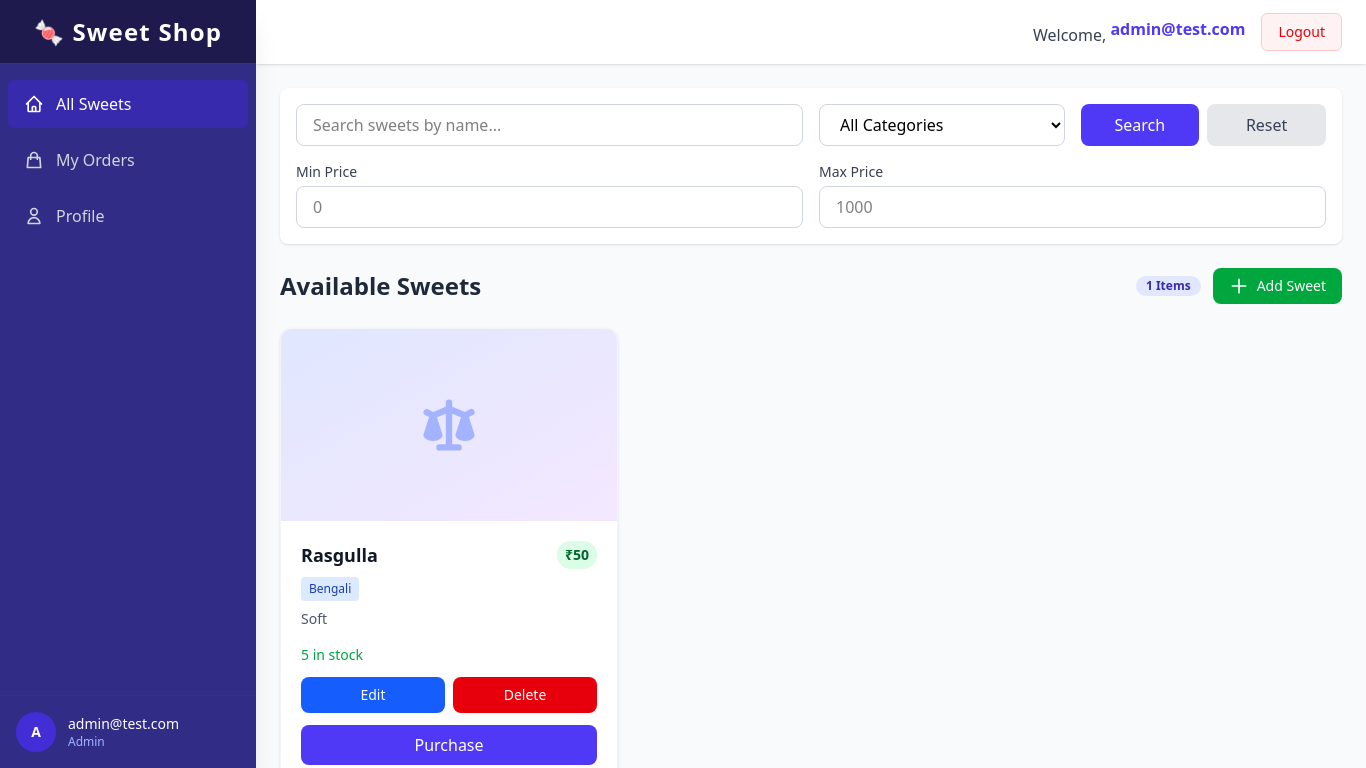
Scenario: Admin CRUD Operations › Edit Sweet Functionality › should open edit form with pre-filled data when edit button is clicked
This screenshot has width=1366, height=768.
Click the button "Edit" at [373, 695], box [301,677,445,713]
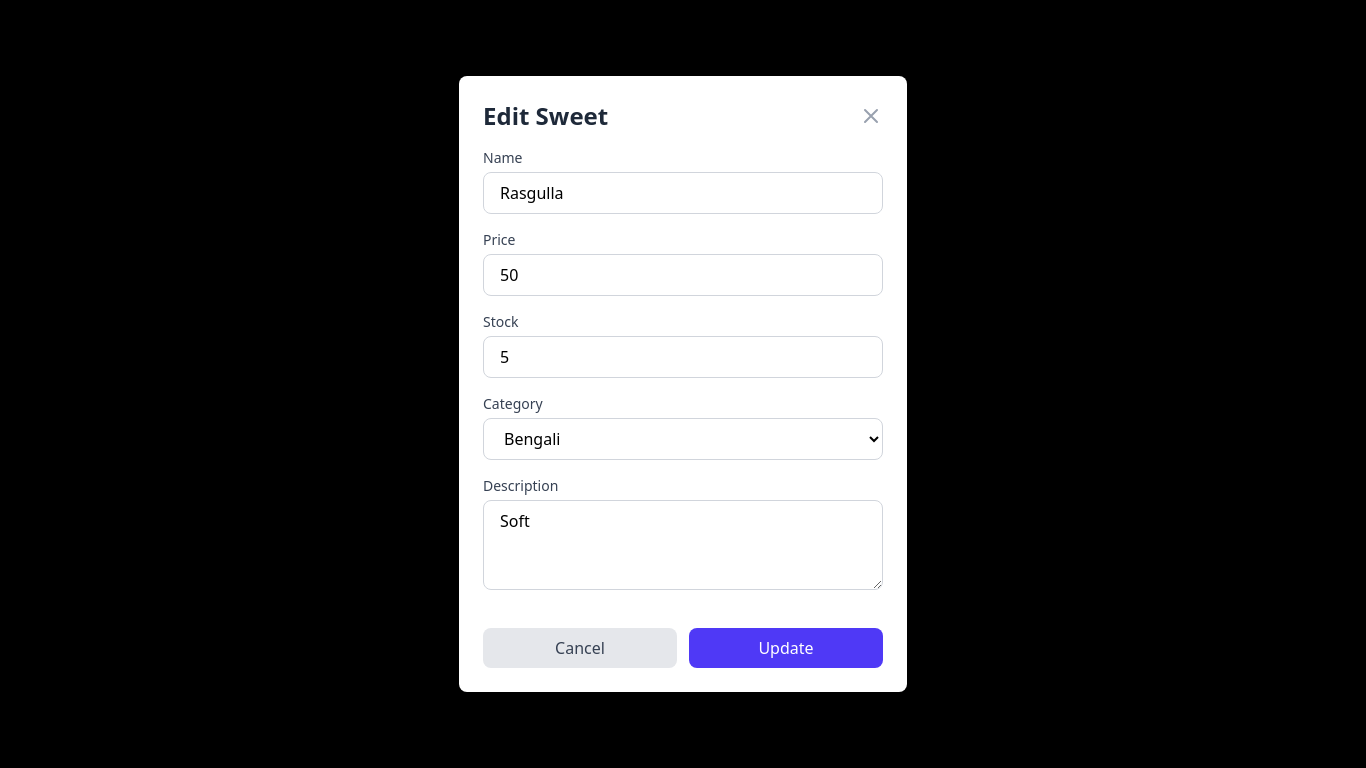
Check: the field labelled "Name" holds "Rasgulla", box [483,172,883,214]
Check: the number field labelled "Price" holds "50", box [483,254,883,296]
Check: the number field labelled "Stock" holds "5", box [483,336,883,378]
